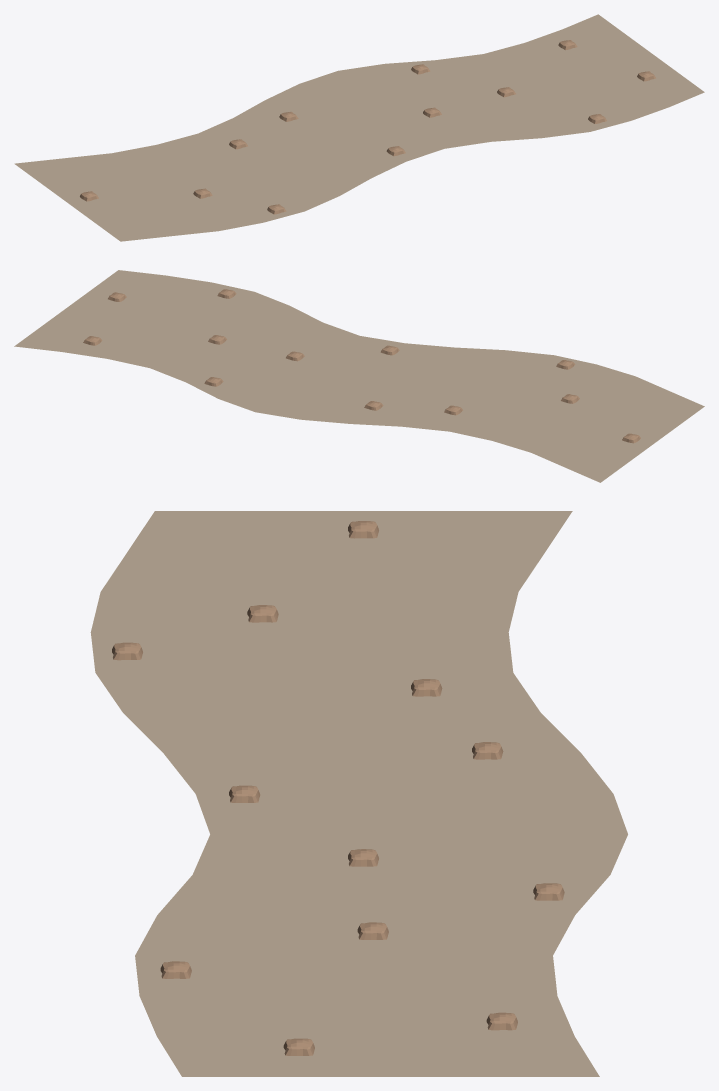
File: zandpad.fbx
3 views of the same model, one above another, from view 1: azimuth 30°, elevation 25°; view 2: azimuth 150°, elevation 25°; view 3: azimuth 270°, elevation 25° (orthographic). The views are drawn at different scales.
Visible parts, largest first — view 1: Plane, Cube; view 2: Plane, Cube; view 3: Plane, Cube.
Boxes of the visible parts, <box> form: Plane: <box>14,14,704,241</box>; Cube: <box>80,40,655,214</box>; Plane: <box>14,270,704,482</box>; Cube: <box>83,289,640,443</box>; Plane: <box>90,511,627,1076</box>; Cube: <box>112,521,564,1055</box>.
Size of the model in its own units: 679 by 4.45 by 273.
